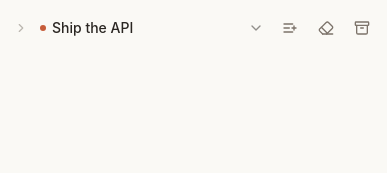
Test: GroupChatHeaderActions task status › gives every task its own status in the list
Click the dropdown named "Current task".
click(152, 28)  # box [32,12,272,44]
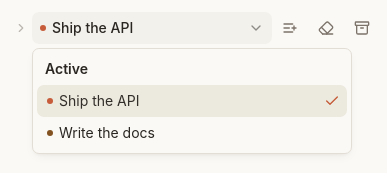
Check: the options read "ReplyingShip the API", "Waiting for youWrite the docs", in this order, box [37,85,347,117]; [46,124,155,144]
